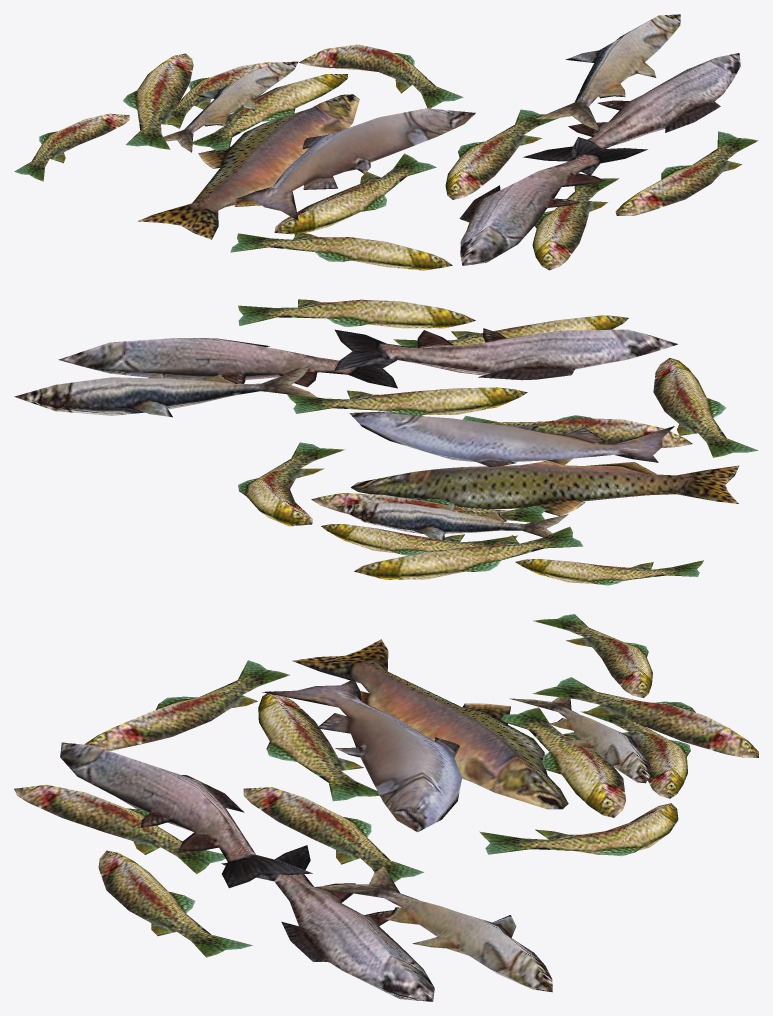
The model's file is village_fish_mass_02.fbx.
3 renders of one model, top to bottom at view 1: azimuth 30°, elevation 25°; view 2: azimuth 150°, elevation 25°; view 3: azimuth 270°, elevation 25°, orthographic. The views are drawn at different scales.
Parts seen in each view (by area): view 1: village_fish_mass_02; view 2: village_fish_mass_02; view 3: village_fish_mass_02.
Boxes of the visible parts, x1,y1,x2,y2 form: village_fish_mass_02: (14, 14, 758, 270); village_fish_mass_02: (14, 299, 758, 585); village_fish_mass_02: (14, 614, 758, 1001).
Bounding box in the file's own units: 168 × 12.04 × 136.
